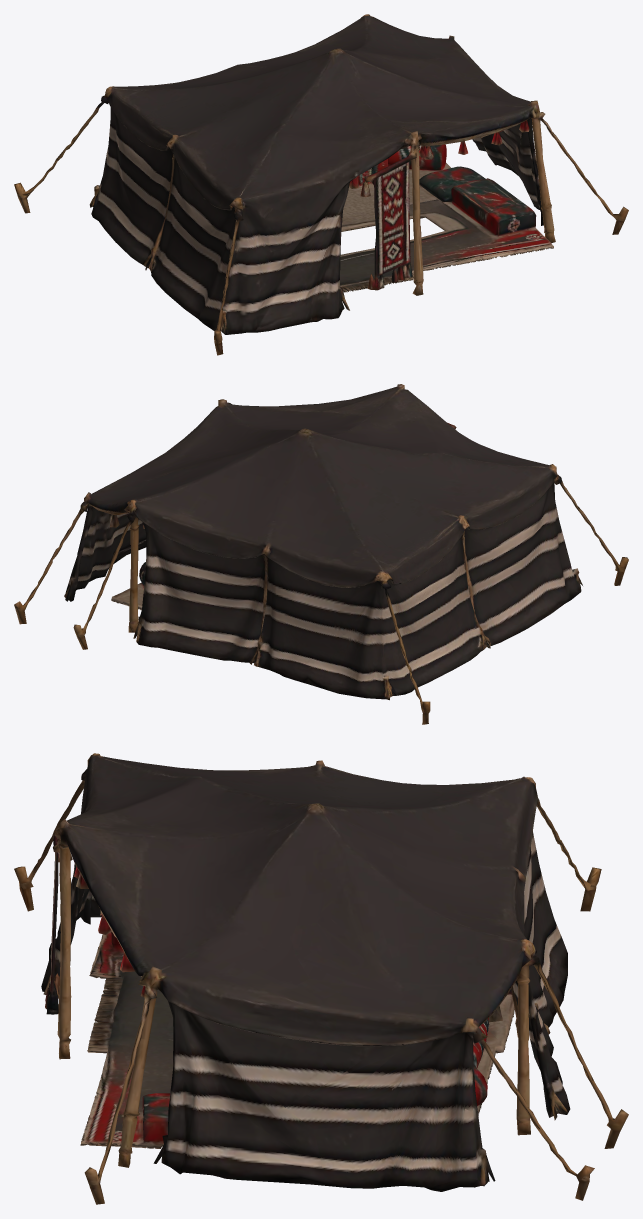
File: sakhir_tent.glb
3 renders of one model, top to bottom at view 1: azimuth 30°, elevation 25°; view 2: azimuth 150°, elevation 25°; view 3: azimuth 270°, elevation 25°, orthographic. The views are drawn at different scales.
Size of the model in its own units: 0.9784 by 0.3858 by 0.8312.
1 material, 1 textured.
